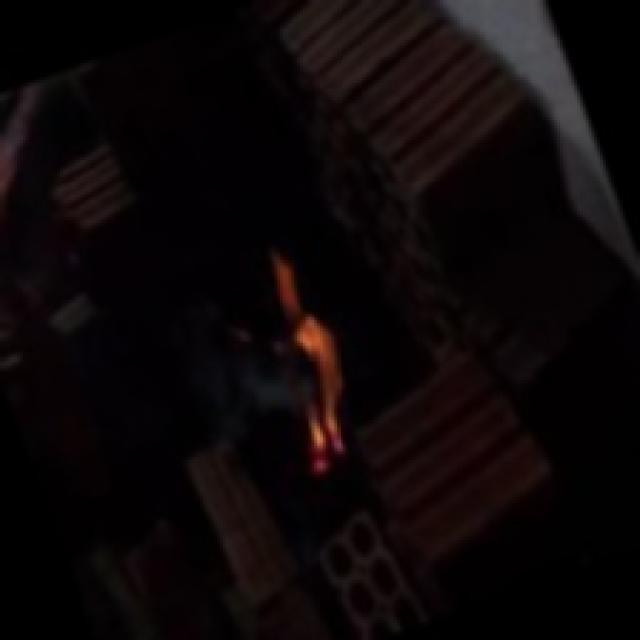fire: (221, 227, 410, 499)
